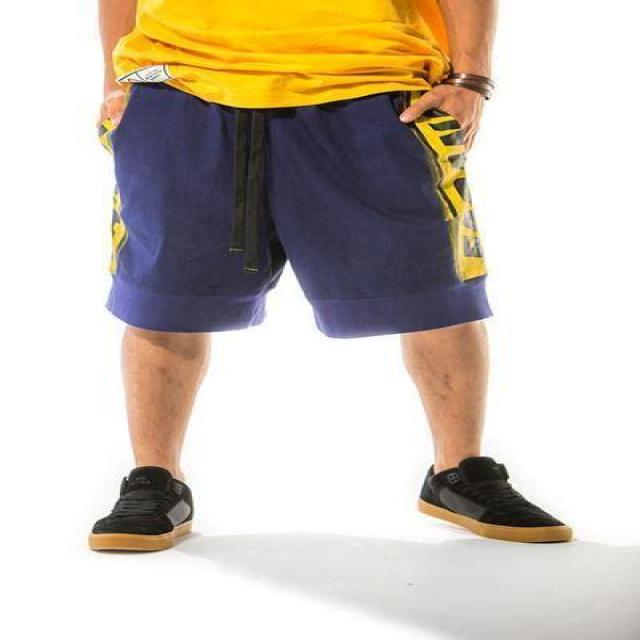short: (108, 72, 495, 338)
